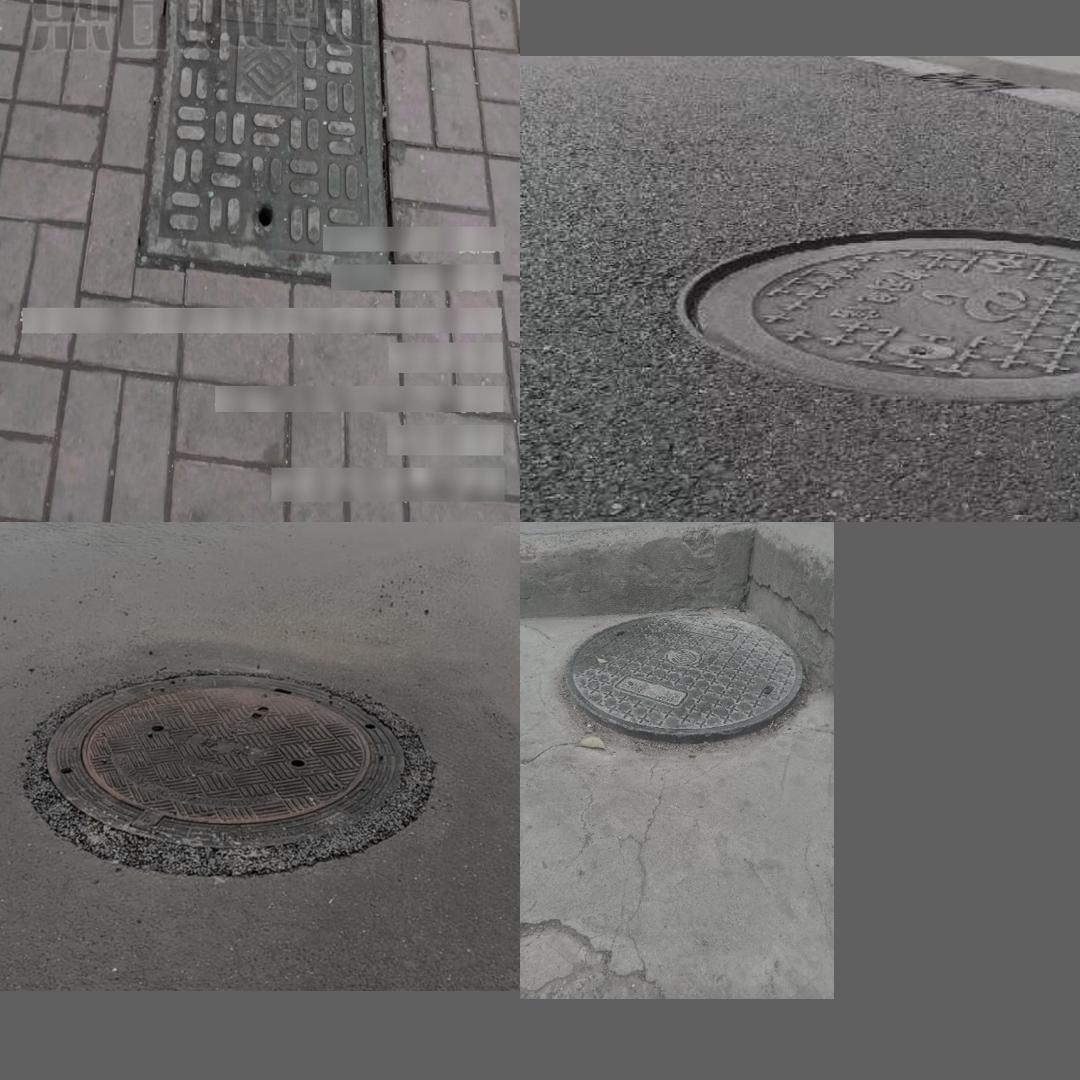good: (18, 649, 449, 892), (667, 215, 1080, 423), (137, 0, 396, 294), (565, 613, 804, 744)
